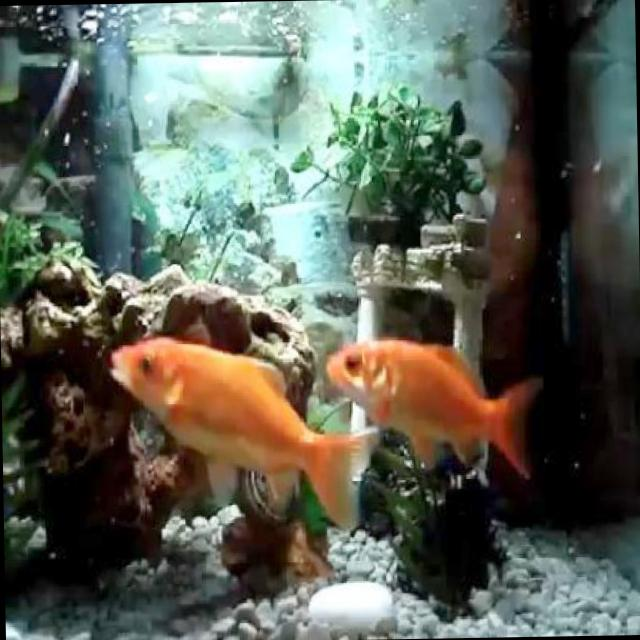GoldFish: (110, 330, 382, 526), (326, 331, 540, 477)
